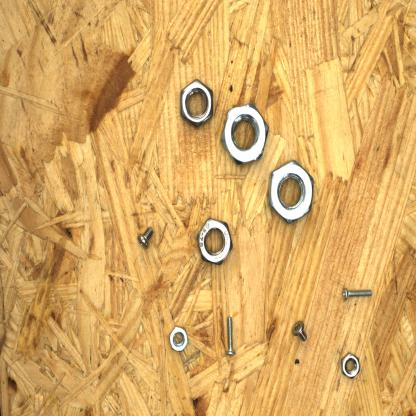screw: (221, 314, 238, 359), (135, 222, 158, 253), (338, 286, 378, 303), (290, 317, 310, 344)
